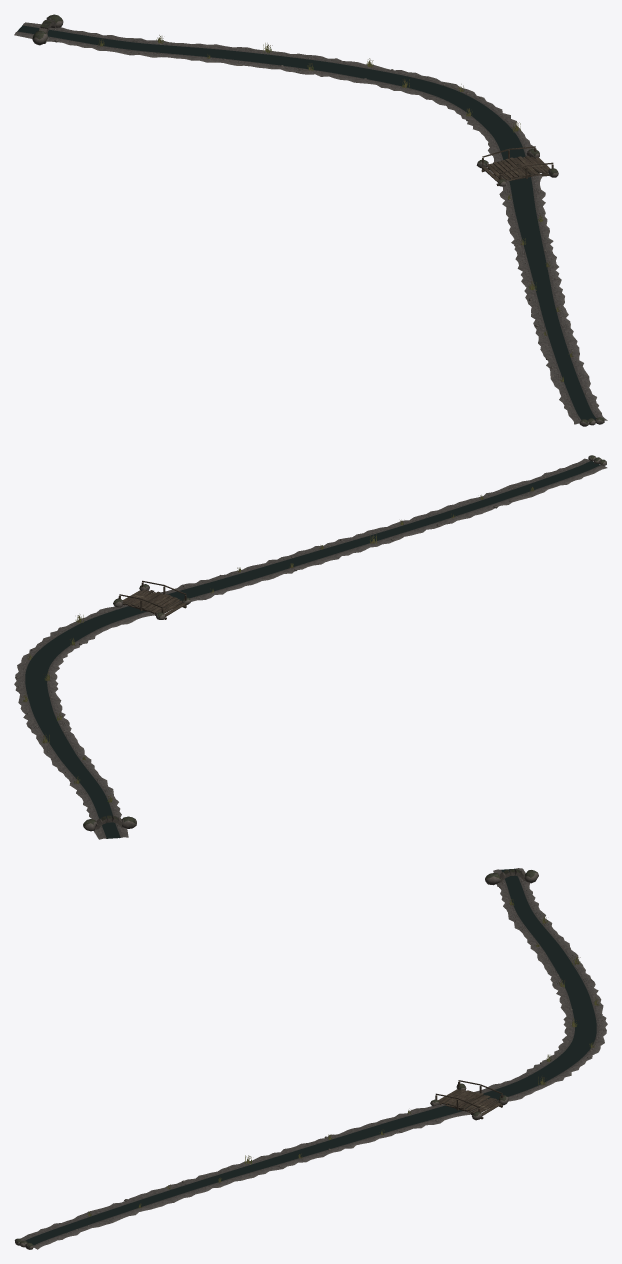
Rendered from creek_tex.glb.
3 renders of one model, top to bottom at view 1: azimuth 30°, elevation 25°; view 2: azimuth 150°, elevation 25°; view 3: azimuth 330°, elevation 25°, orthographic. The views are drawn at different scales.
Parts seen in each view (by area): view 1: creek_banks, water_creek, creek_reeds; view 2: creek_banks, water_creek, creek_reeds; view 3: creek_banks, water_creek, creek_reeds.
Boxes of the visible parts, x1,y1,x2,y2 form: creek_banks: (14, 14, 607, 426); water_creek: (17, 25, 595, 420); creek_reeds: (98, 35, 573, 381); creek_banks: (14, 455, 607, 839); water_creek: (25, 461, 600, 838); creek_reeds: (21, 487, 534, 802); creek_banks: (14, 868, 607, 1249); water_creek: (25, 868, 596, 1245); creek_reeds: (87, 898, 600, 1216).
Size of the model in its own units: 22.91 by 1.37 by 75.85.
Materials: 3 (3 with a texture image).
